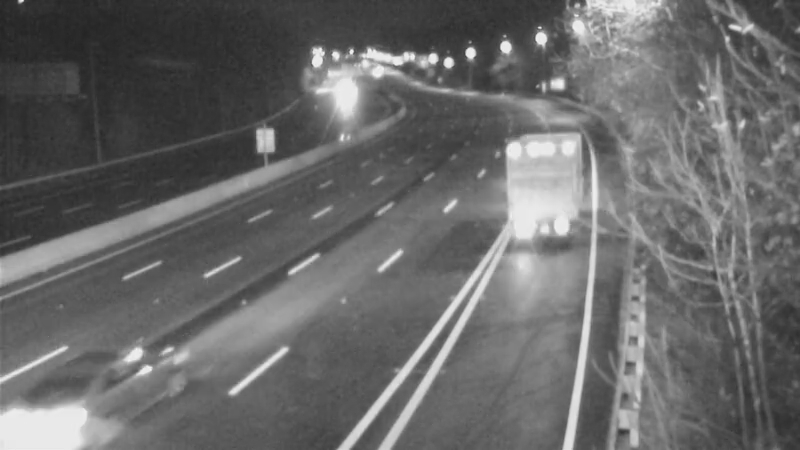vehicle: (44, 326, 154, 436), (489, 140, 569, 220), (312, 73, 362, 123)
